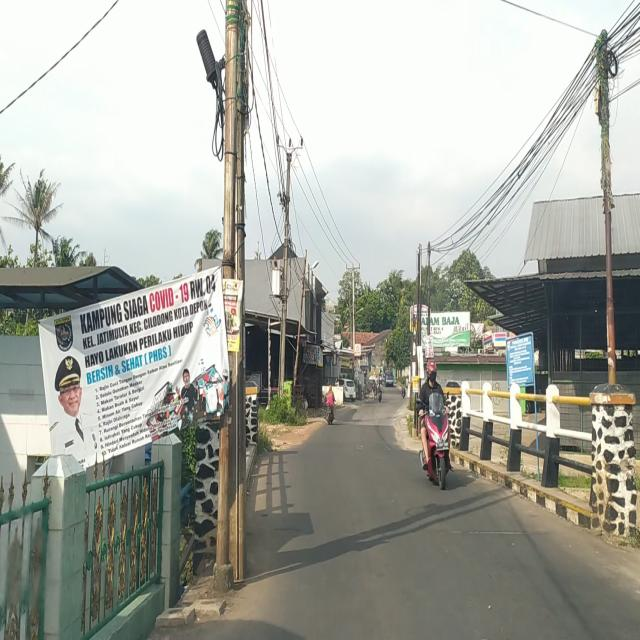Sewer Cover: (422, 527, 534, 536)
